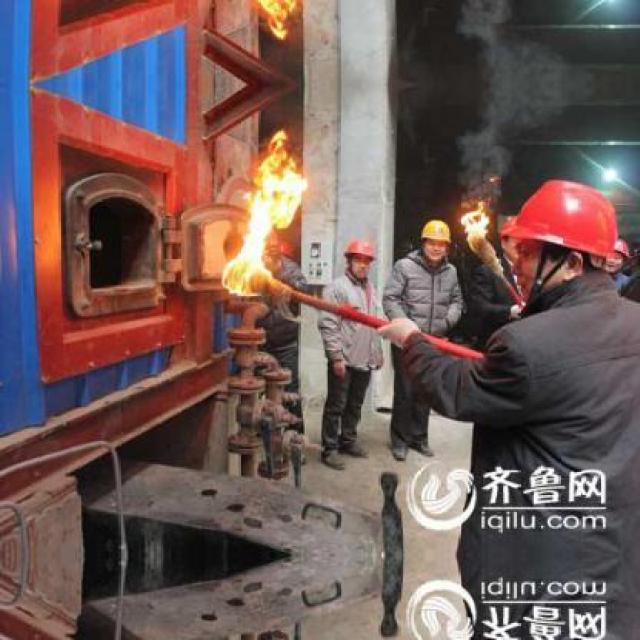helmet: (499, 167, 624, 300), (338, 232, 372, 275), (420, 216, 451, 261), (606, 233, 632, 271)
